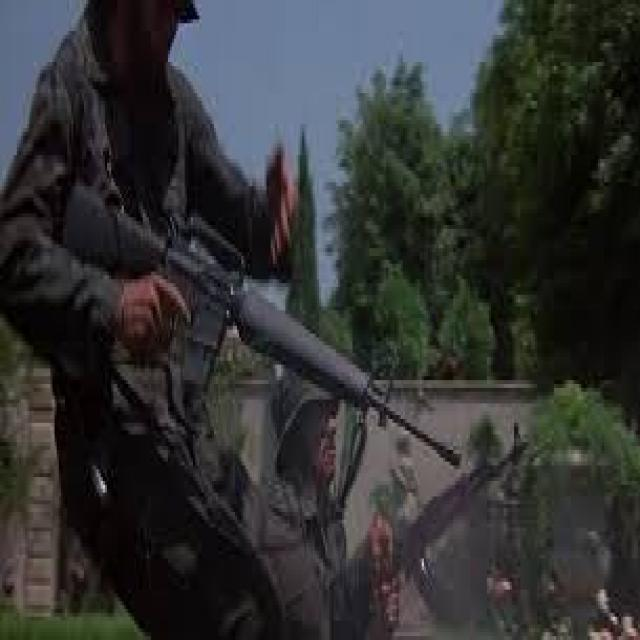weapon: (56, 166, 464, 472), (349, 418, 532, 640)
